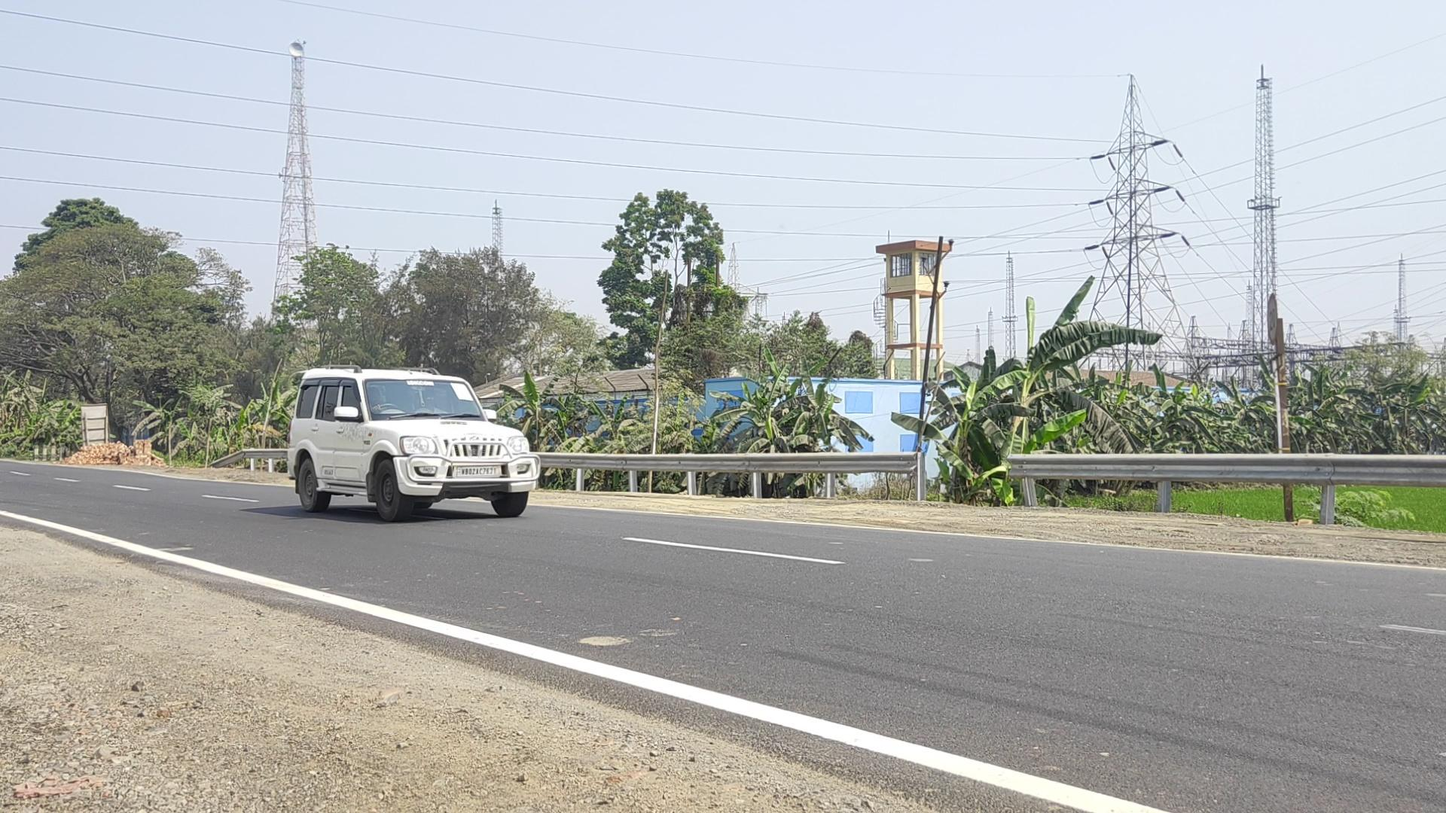car: (287, 364, 541, 524)
